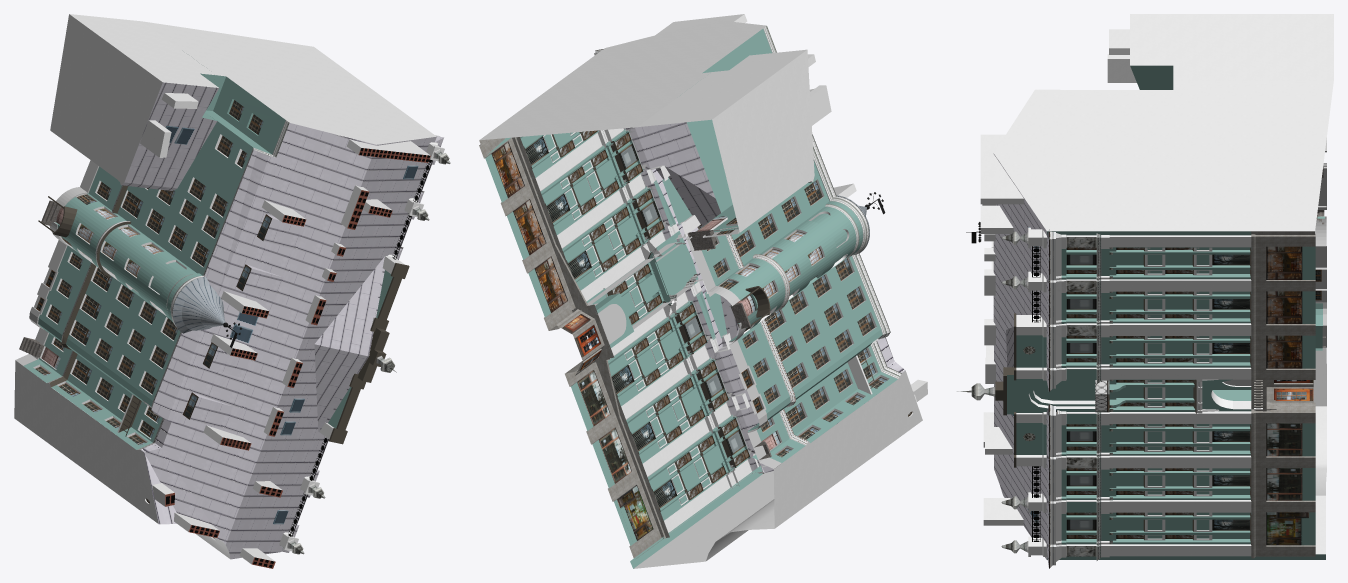
Rendered from Myyrivahe_34.obj.
The picture shows the model from 3 angles, left to right: view 1: azimuth 30°, elevation 25°; view 2: azimuth 150°, elevation 25°; view 3: azimuth 270°, elevation 25°; orthographic projection. The views are drawn at different scales.
Visible parts, largest first — view 1: Myyrivahe_34; view 2: Myyrivahe_34; view 3: Myyrivahe_34.
Part boxes in pixels (<box>): Myyrivahe_34: <box>14,14,450,568</box>; Myyrivahe_34: <box>479,14,927,568</box>; Myyrivahe_34: <box>957,14,1333,568</box>.
Bounding box in the file's own units: 28.33 × 41.63 × 28.09.
